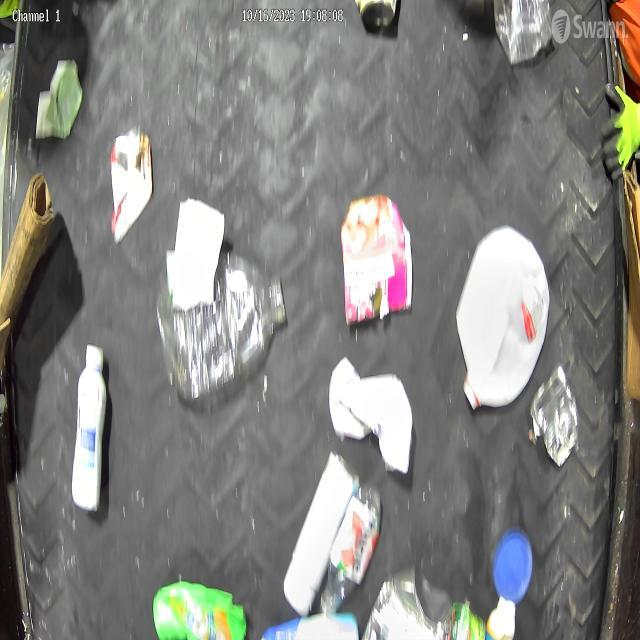can: (280, 448, 363, 614), (361, 559, 452, 640), (109, 126, 154, 244), (530, 366, 581, 464), (354, 0, 401, 32)
milk_jug: (452, 218, 552, 419), (329, 349, 417, 477)
non_white_jug: (150, 576, 248, 640), (258, 608, 361, 640)
plastic_bottle: (157, 248, 290, 401), (317, 480, 383, 613)
